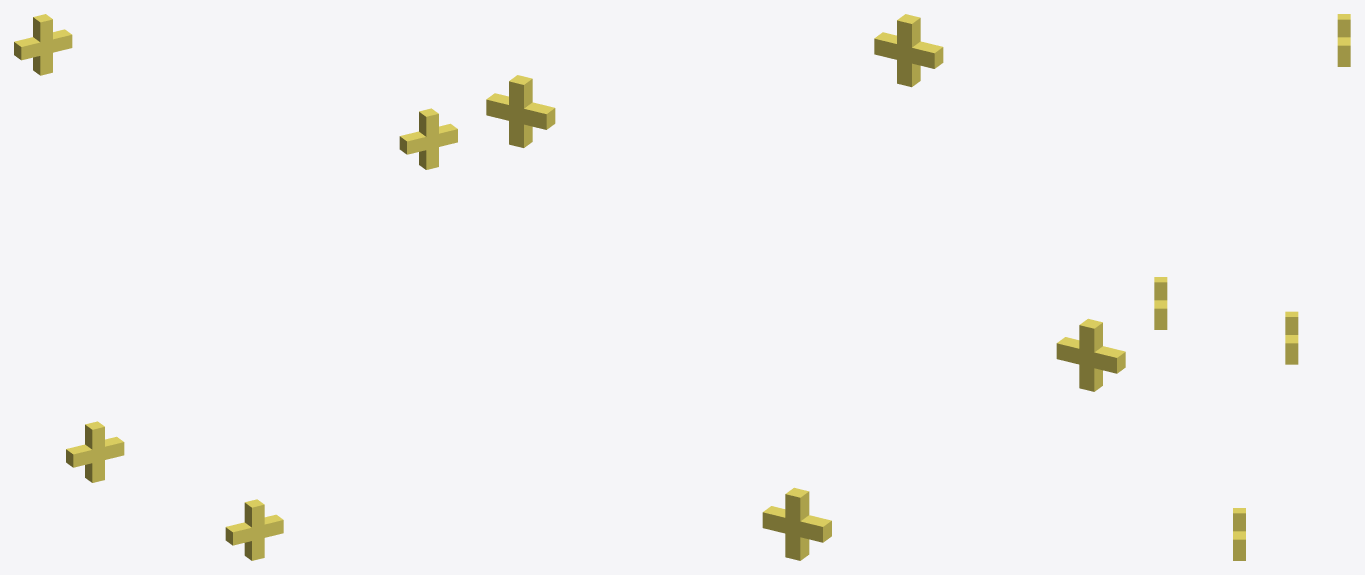
The model's file is fx_sparkle.glb.
The picture shows the model from 3 angles, left to right: view 1: azimuth 30°, elevation 25°; view 2: azimuth 150°, elevation 25°; view 3: azimuth 270°, elevation 25°; orthographic projection. The views are drawn at different scales.
Parts seen in each view (by area): view 1: fx_sparkle; view 2: fx_sparkle; view 3: fx_sparkle.
Part boxes in pixels (x1=…): fx_sparkle: x1=14, y1=14, x2=457, y2=560; fx_sparkle: x1=486, y1=14, x2=1125, y2=560; fx_sparkle: x1=1154, y1=14, x2=1350, y2=560.
Size of the model in its own units: 0.9 by 1 by 0.375.
Materials: 1 (1 with a texture image).
